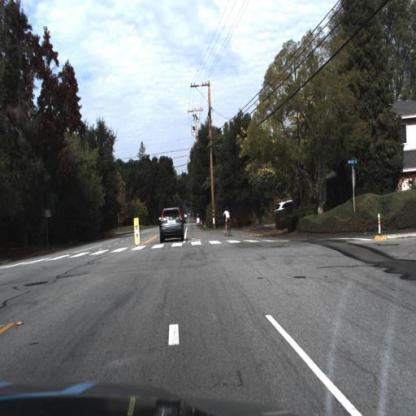biker: (217, 202, 238, 240)
car: (155, 205, 186, 246)
